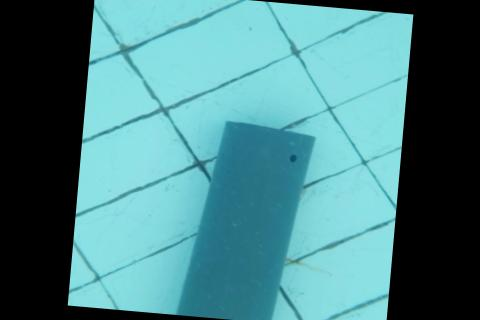kebocoran: (287, 153, 298, 164)
